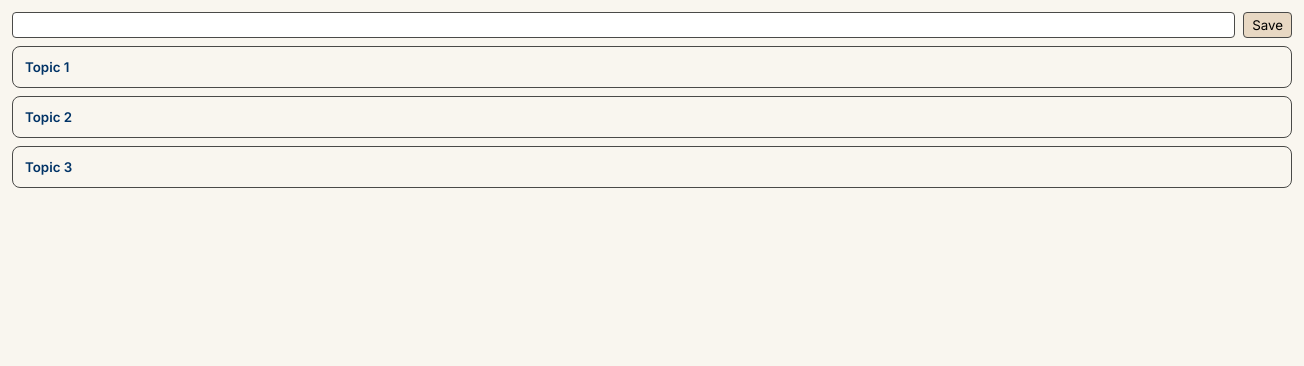
TopicLayoutPreview › shows a list of topics and updates selection
Check: the button "Topic 2" is shown, box [21,105,1283,129]
Check: the button "Topic 3" is shown, box [21,155,1283,179]
Click the button "Topic 1": click(47, 67) [21,55,1283,79]
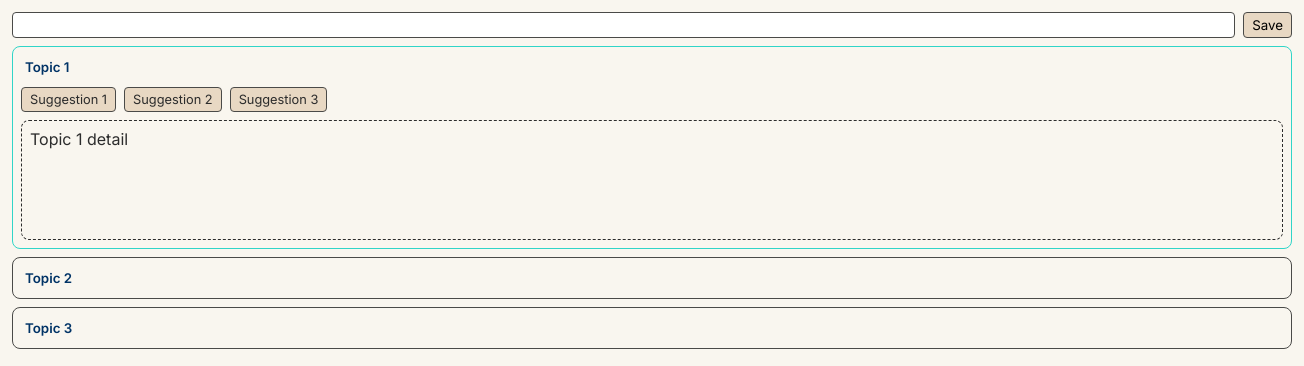
Check: the text "Topic 1 detail" is shown, box [21,120,1283,240]
Click the button "Topic 2": click(49, 278) [21,266,1283,290]
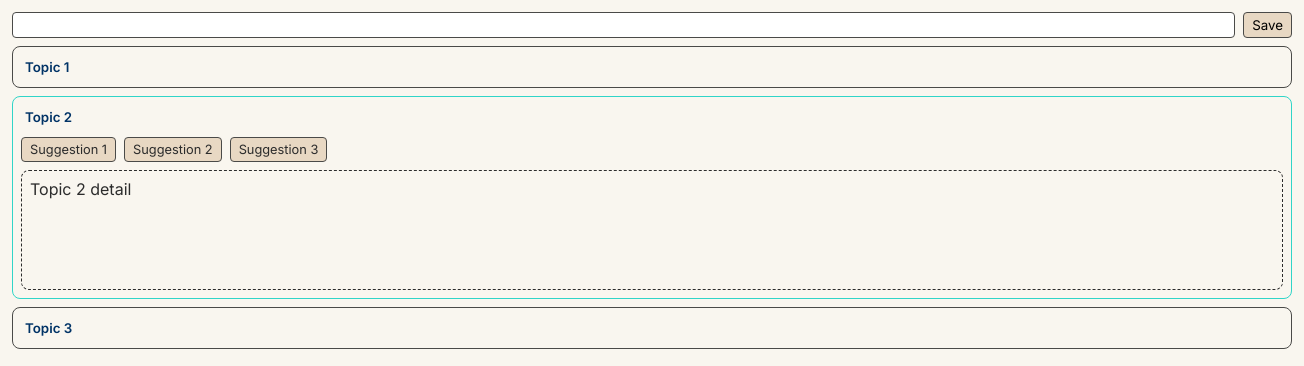
Check: the text "Topic 2 detail" is shown, box [21,170,1283,290]
